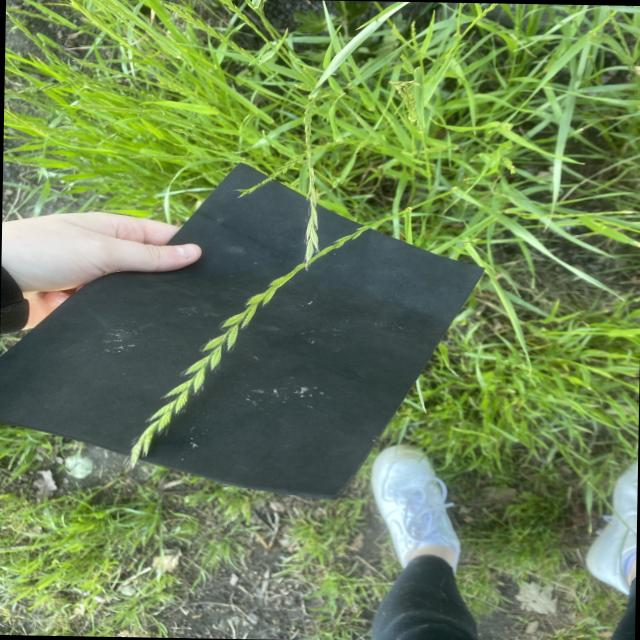Lolium: (127, 213, 386, 473), (282, 80, 325, 256)
